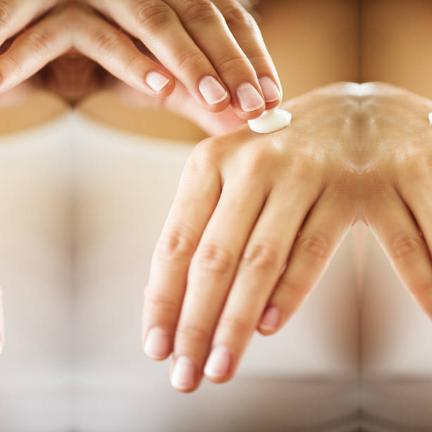Nail: (169, 356, 197, 392), (143, 328, 171, 361), (203, 347, 231, 379), (236, 82, 264, 112), (198, 76, 227, 104), (258, 76, 281, 109), (258, 307, 281, 331), (145, 71, 168, 91), (0, 344, 1, 353)
